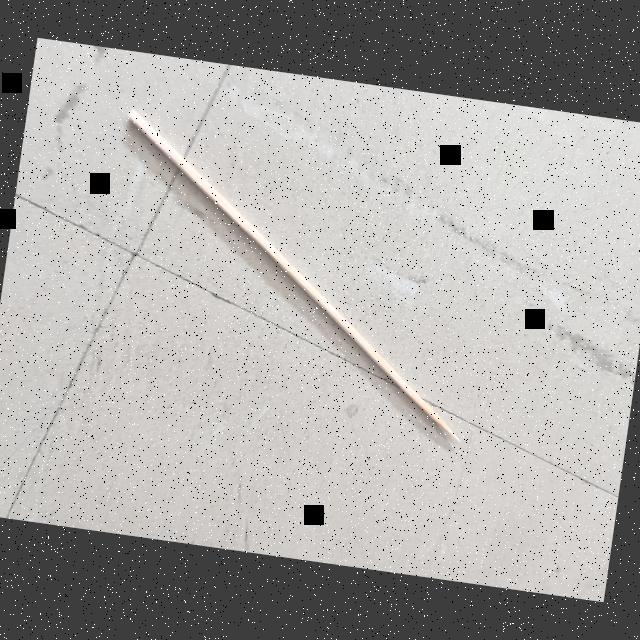stick: (72, 97, 504, 453)
